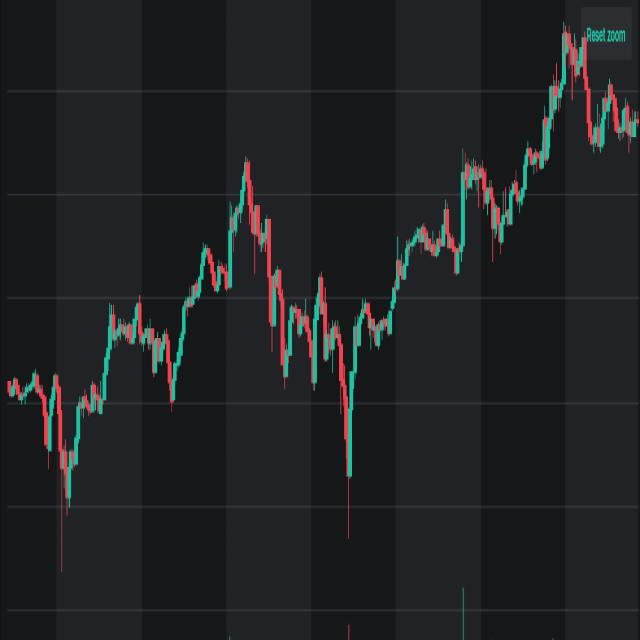Resistance-Emerging: (543, 46, 639, 168)
